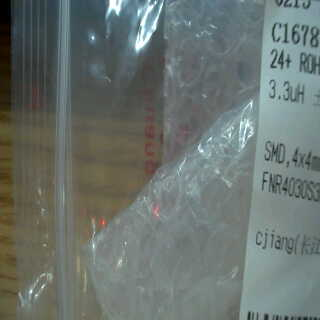3.3uH: (266, 72, 310, 118)
